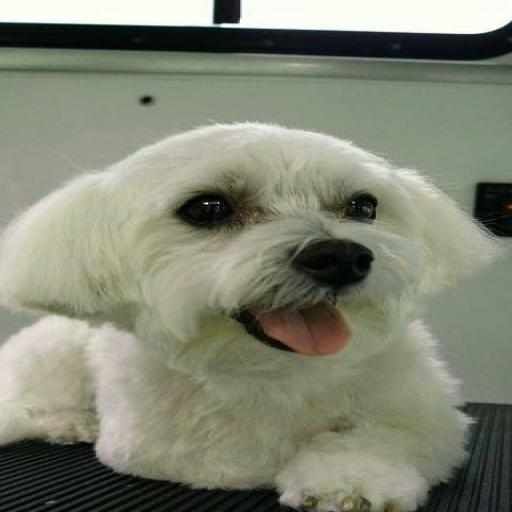dog_face: (11, 122, 512, 373)
